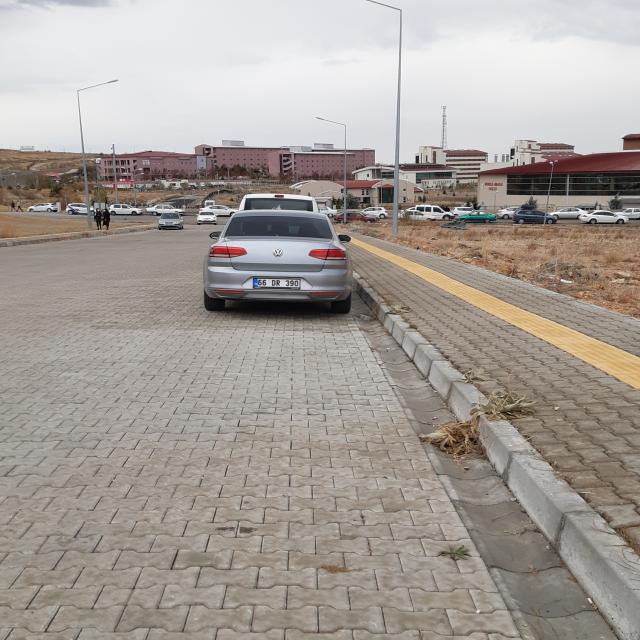license_plate: (254, 278, 300, 288)
